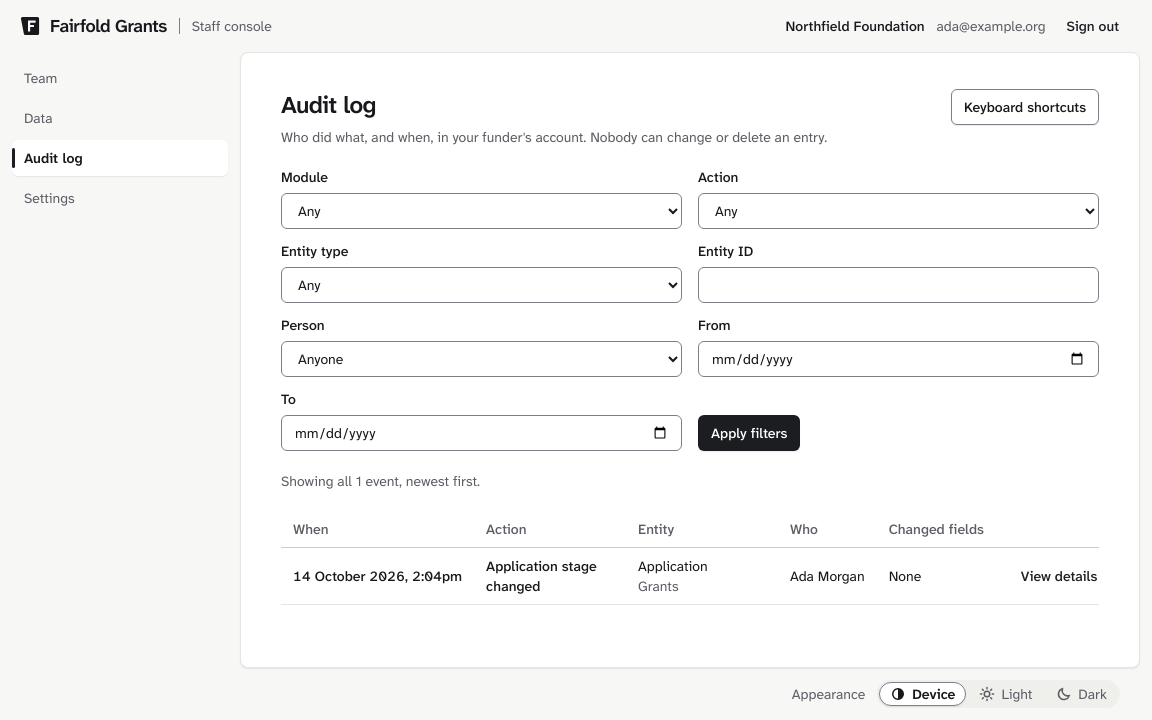
Test: the audit log › says so when an event changed no fields
Click the button "View details".
click(1059, 576)  # box [1008, 558, 1110, 594]
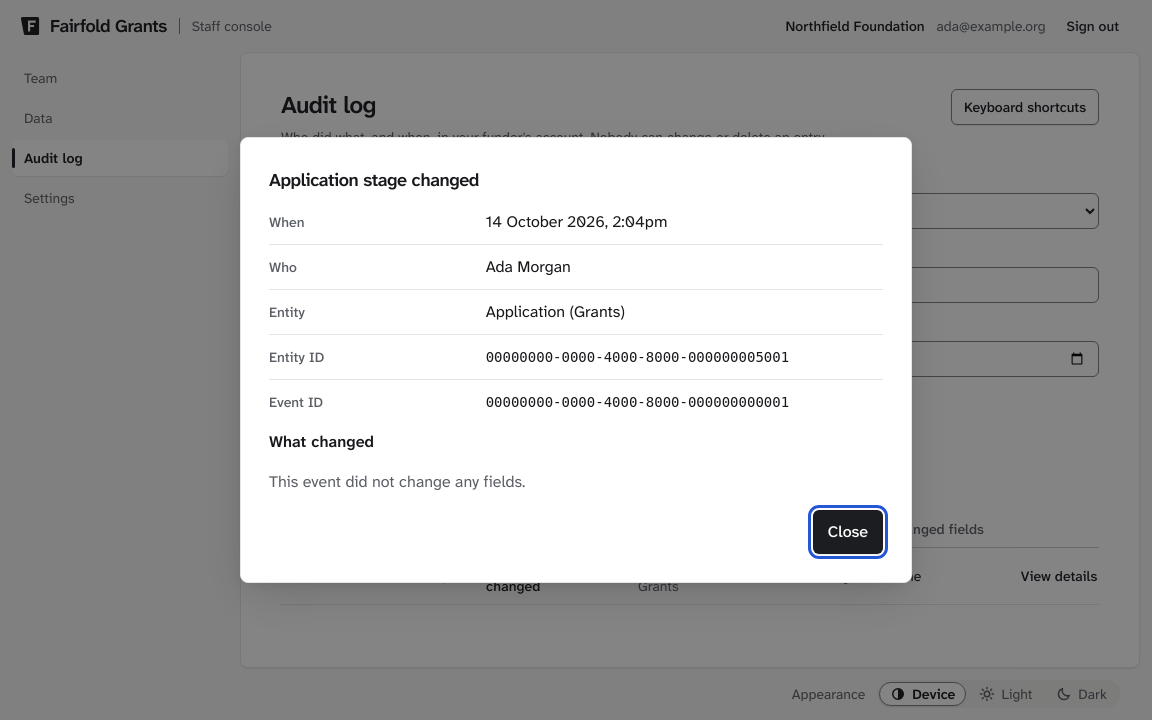
Result: the dialog shows "This event did not change any fields." at [269, 471, 526, 492]
